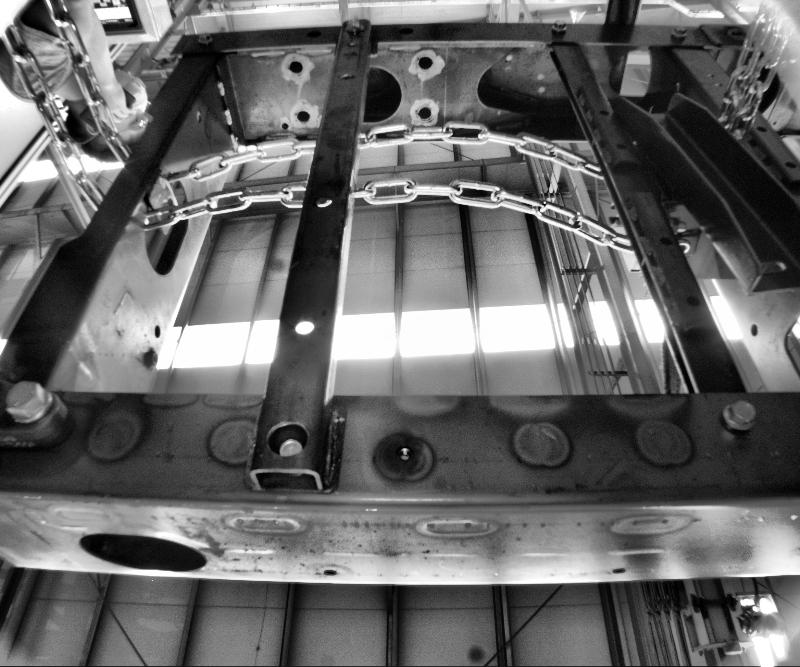bolt: (5, 373, 54, 432), (719, 400, 761, 431), (140, 346, 160, 370), (548, 18, 572, 32), (670, 23, 688, 40)
bracket: (140, 154, 184, 234)
hole: (64, 523, 210, 572), (268, 419, 306, 458), (292, 317, 318, 340), (392, 442, 415, 463), (314, 190, 334, 205), (286, 59, 304, 74), (296, 108, 312, 123), (414, 100, 430, 115), (337, 69, 355, 80), (747, 323, 761, 336), (303, 27, 322, 36), (417, 51, 431, 63), (611, 563, 624, 575), (323, 565, 337, 575), (397, 26, 412, 33), (152, 325, 160, 336), (345, 33, 355, 41), (282, 121, 288, 128)
welding: (214, 77, 228, 95), (223, 108, 233, 126), (228, 132, 238, 150)
